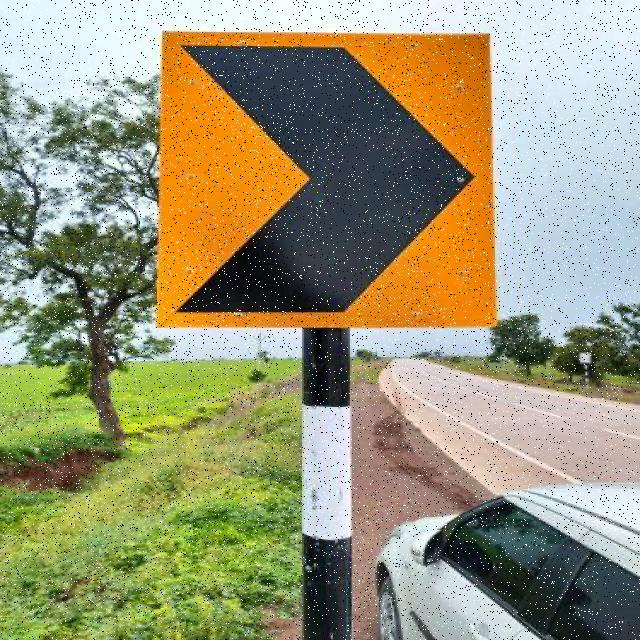chevron_right: (157, 32, 493, 326)
